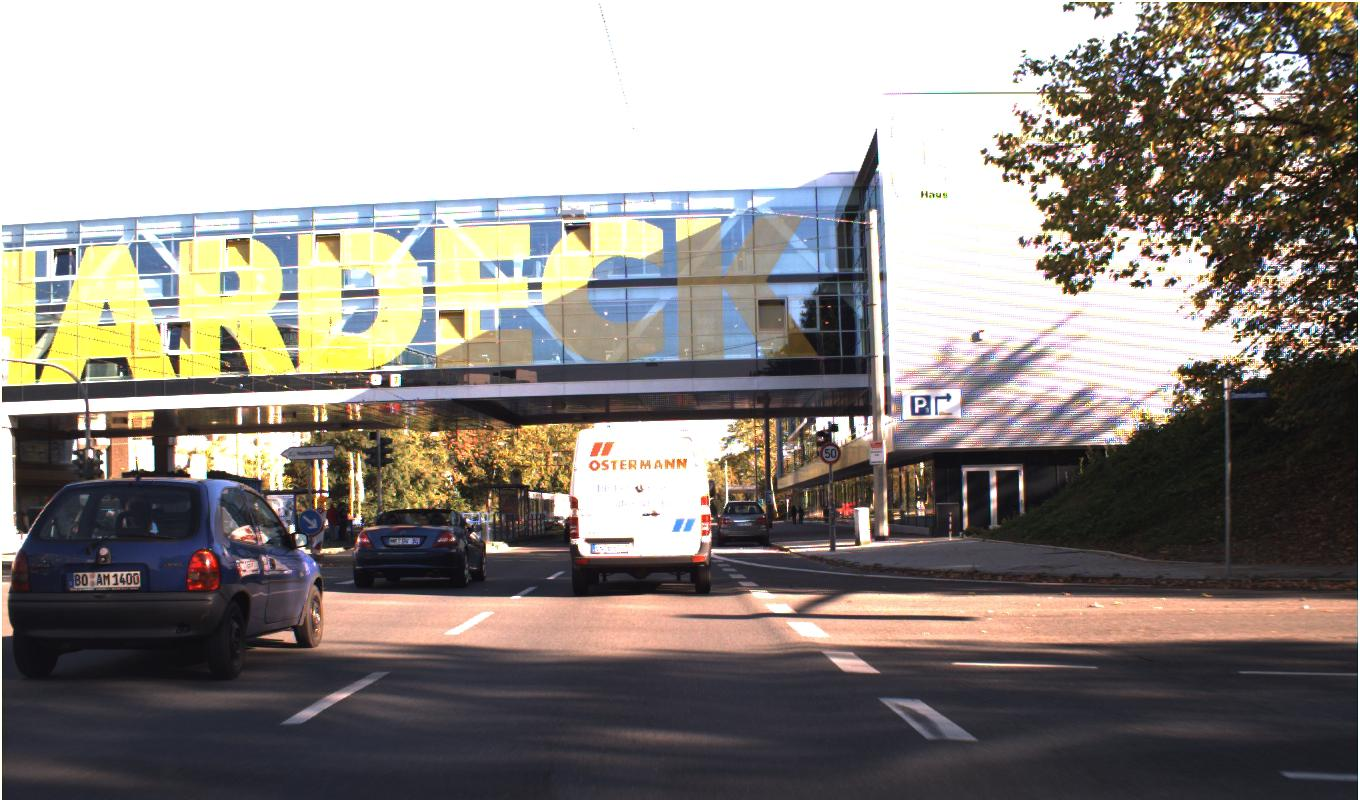mandatory: (296, 508, 323, 535)
prohibitory: (819, 441, 842, 464)
